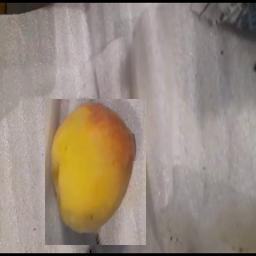Peach Fresh: (45, 99, 146, 245)
